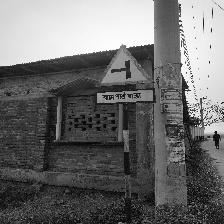Side-road-left: (97, 46, 155, 106)
